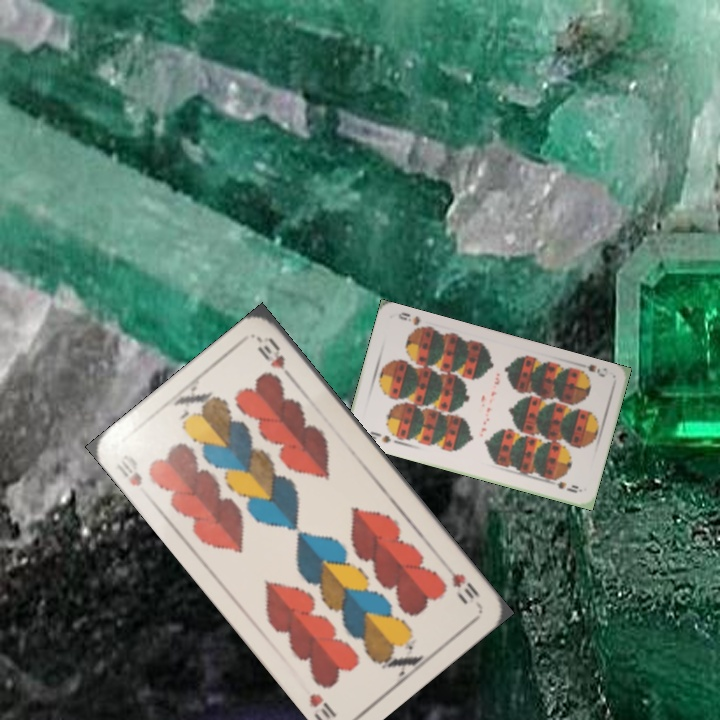H10: (439, 559, 483, 602), (111, 459, 145, 489)
S9: (573, 359, 608, 380), (365, 427, 393, 445)
